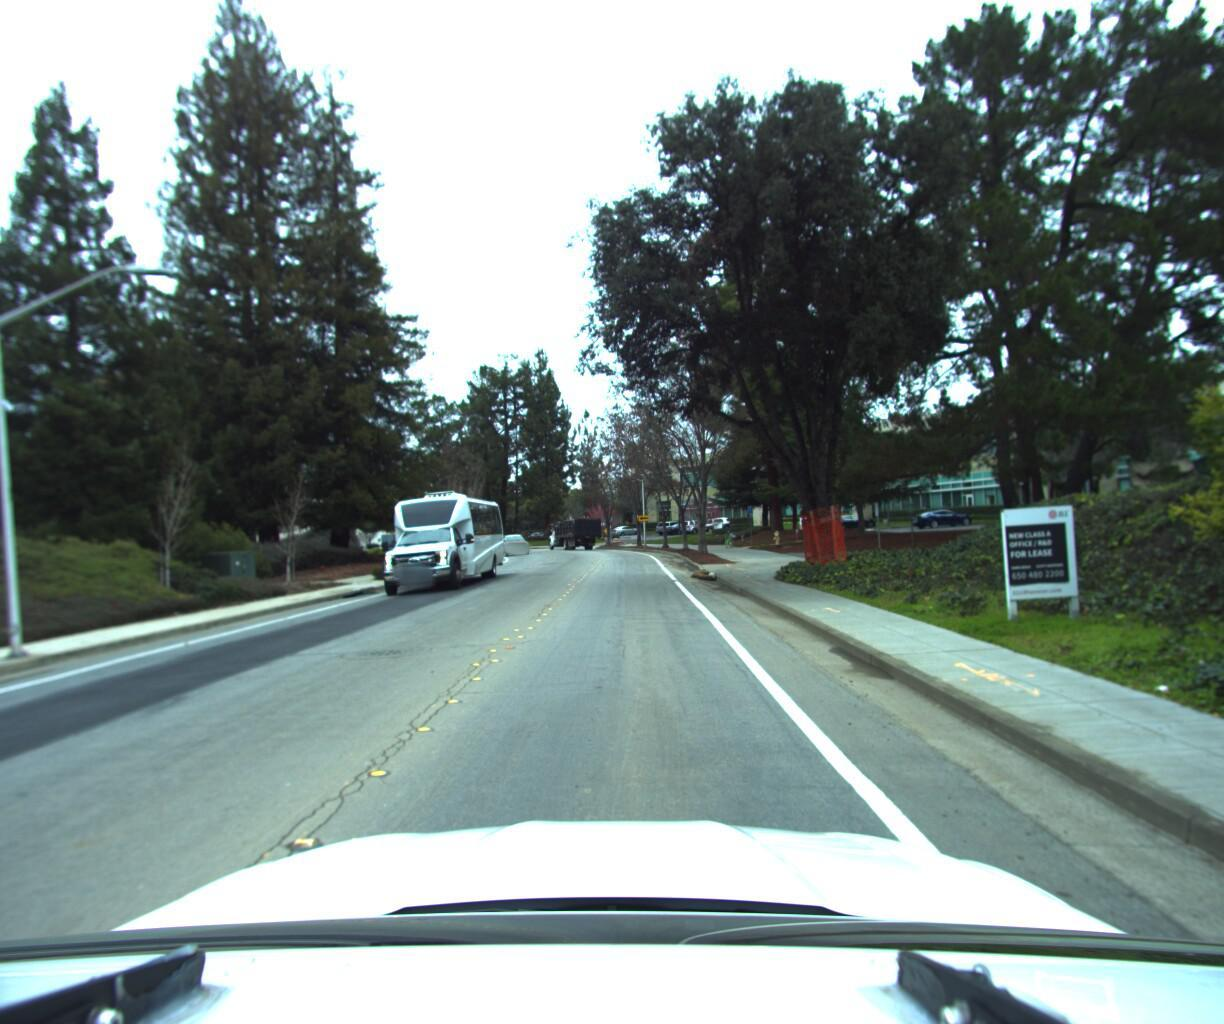bicycle: (719, 524, 738, 543)
bus: (361, 477, 510, 599)
car: (495, 527, 527, 553)
truck: (546, 506, 605, 548)
